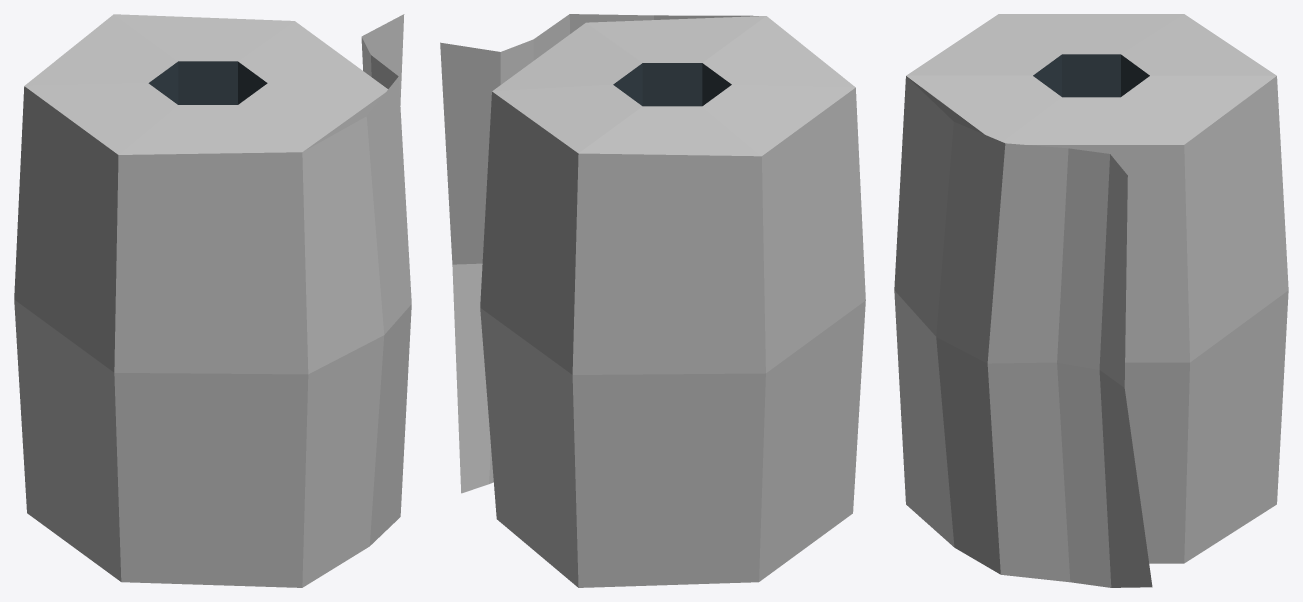
Rendered from Toiletpaper.fbx.
3 renders of one model, left to right at view 1: azimuth 30°, elevation 25°; view 2: azimuth 150°, elevation 25°; view 3: azimuth 270°, elevation 25°, orthographic.
Parts seen in each view (by area): view 1: Toiletpaper; view 2: Toiletpaper; view 3: Toiletpaper.
Part boxes in pixels (box(x1,y1,x2,y2)): Toiletpaper: box(14, 14, 411, 587); Toiletpaper: box(440, 14, 865, 587); Toiletpaper: box(894, 14, 1288, 587).
Size of the model in its own units: 12.91 by 15.12 by 12.5.
